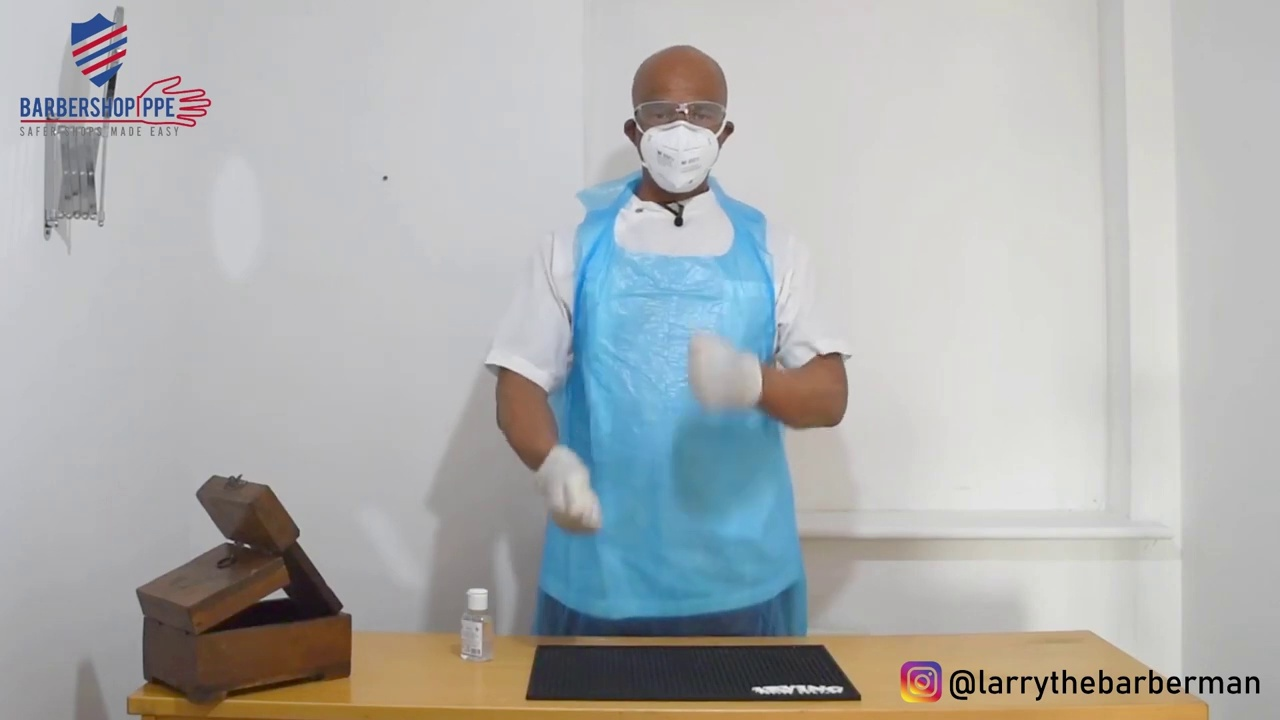Apron: (561, 170, 783, 641)
Glove: (687, 321, 775, 432), (534, 435, 615, 524)
Mask: (624, 119, 733, 190)
No_Hairnet: (629, 41, 739, 97)
